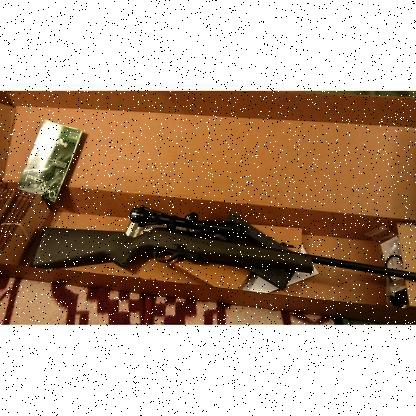gun: (27, 203, 414, 281)
